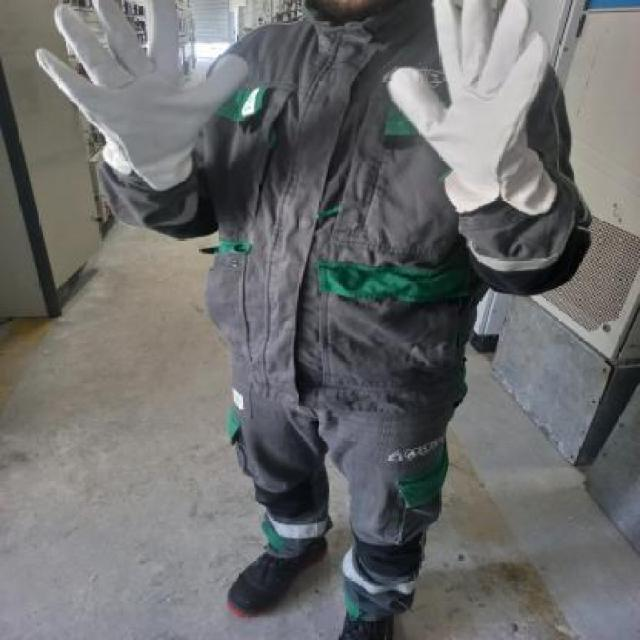gloves: (34, 2, 250, 186), (392, 0, 558, 194)
